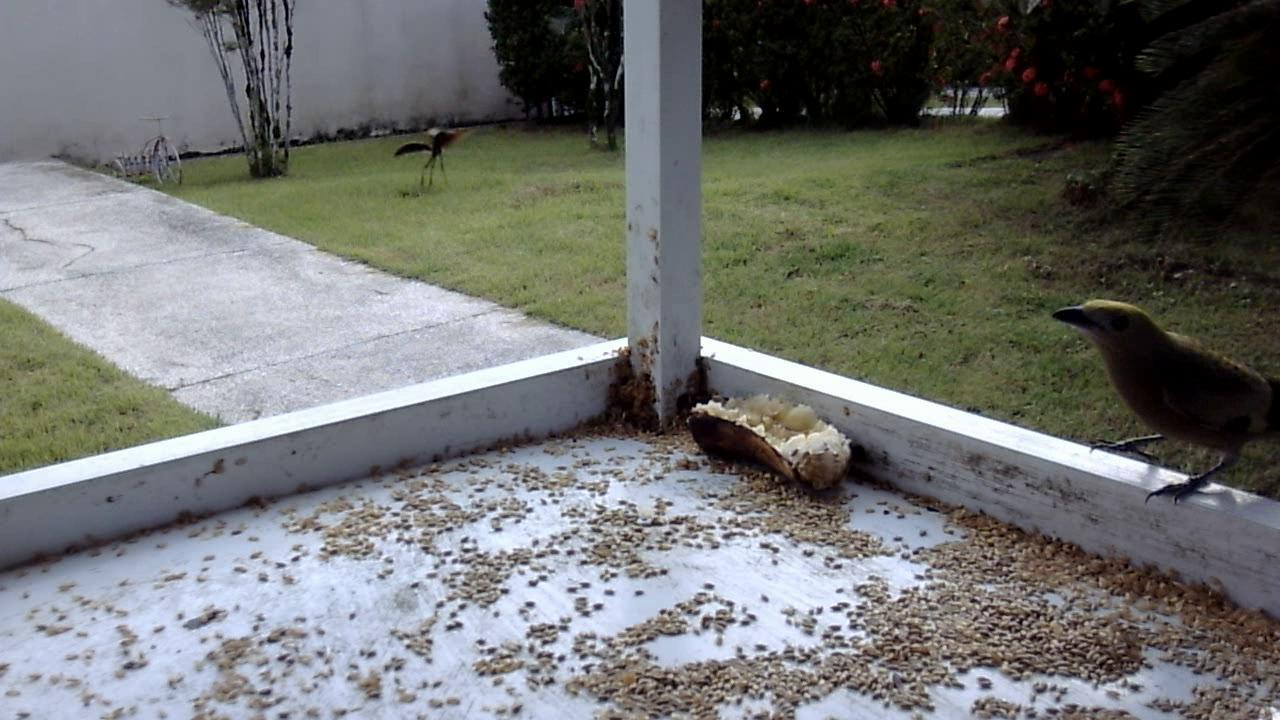sanhaco_do_coqueiro: (1041, 294, 1270, 516)
